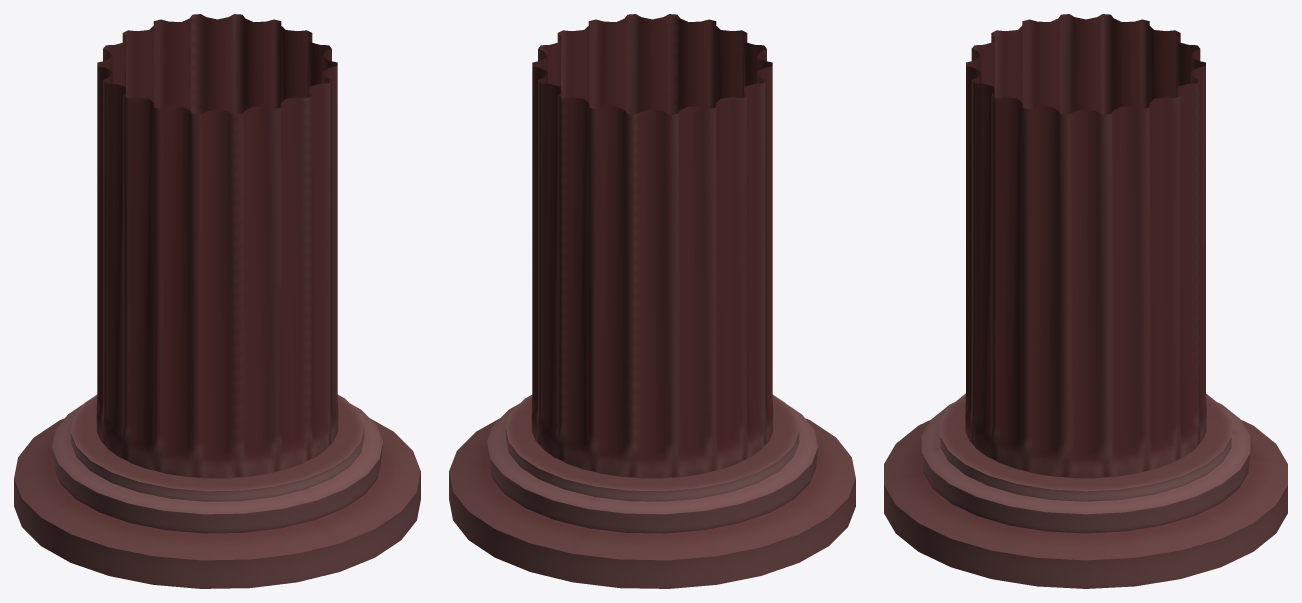
Rendered from Pillar_Bottom.fbx.
3 renders of one model, left to right at view 1: azimuth 30°, elevation 25°; view 2: azimuth 150°, elevation 25°; view 3: azimuth 270°, elevation 25°, orthographic.
Visible parts, largest first — view 1: Pillar_Bottom; view 2: Pillar_Bottom; view 3: Pillar_Bottom.
Boxes of the visible parts, box(x1,y1,x2,y2) form: Pillar_Bottom: box(14, 14, 420, 588); Pillar_Bottom: box(449, 14, 855, 588); Pillar_Bottom: box(884, 14, 1287, 588).
Size of the model in its own units: 47.56 by 56.57 by 47.21.
1 material, 1 textured.
